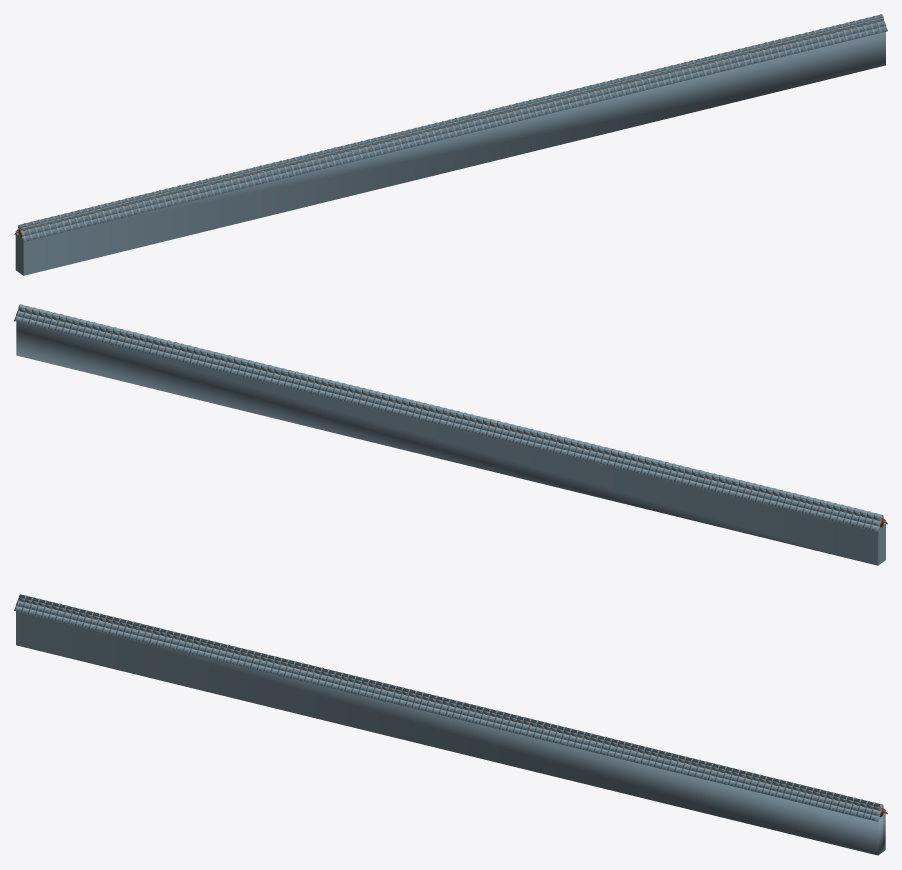
File: wall1.fbx
3 renders of one model, top to bottom at view 1: azimuth 30°, elevation 25°; view 2: azimuth 150°, elevation 25°; view 3: azimuth 330°, elevation 25°, orthographic.
Visible parts, largest first — view 1: obj1.004, kawara.003, obj2.003; view 2: obj1.004, kawara.003, obj2.003; view 3: obj1.004, obj2.003, kawara.003.
Part boxes in pixels (left/top/right/bottom): obj1.004: left=16, top=32, right=885, bottom=275; kawara.003: left=14, top=119, right=456, bottom=241; obj2.003: left=451, top=14, right=887, bottom=136; obj1.004: left=16, top=322, right=885, bottom=565; kawara.003: left=445, top=409, right=887, bottom=531; obj2.003: left=14, top=304, right=450, bottom=426; obj1.004: left=16, top=611, right=885, bottom=855; obj2.003: left=445, top=699, right=887, bottom=821; kawara.003: left=14, top=594, right=451, bottom=716.
Bounding box in the file's own units: 4552 × 243 × 98.03.
